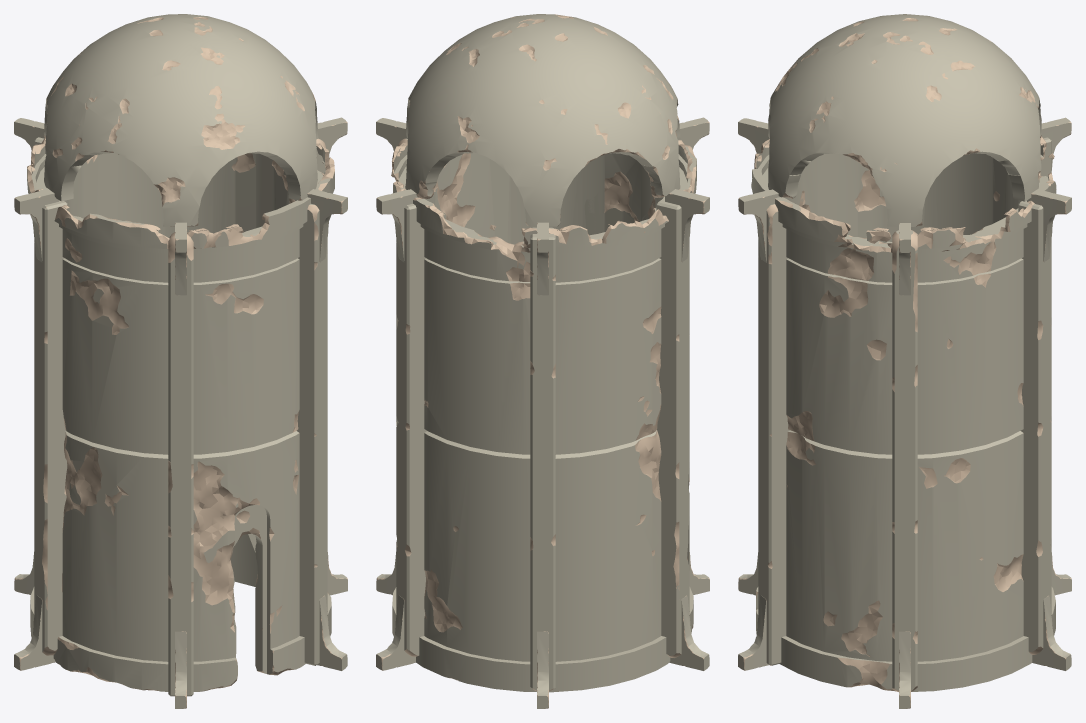
File: Tower_01.fbx
3 renders of one model, left to right at view 1: azimuth 30°, elevation 25°; view 2: azimuth 150°, elevation 25°; view 3: azimuth 270°, elevation 25°, orthographic.
Visible parts, largest first — view 1: Tower_01; view 2: Tower_01; view 3: Tower_01.
Part boxes in pixels (x1,y1,x2,y2): Tower_01: (14,14,347,708); Tower_01: (376,14,709,708); Tower_01: (738,14,1071,708).
Size of the model in its own units: 1714 by 3004 by 1512.
